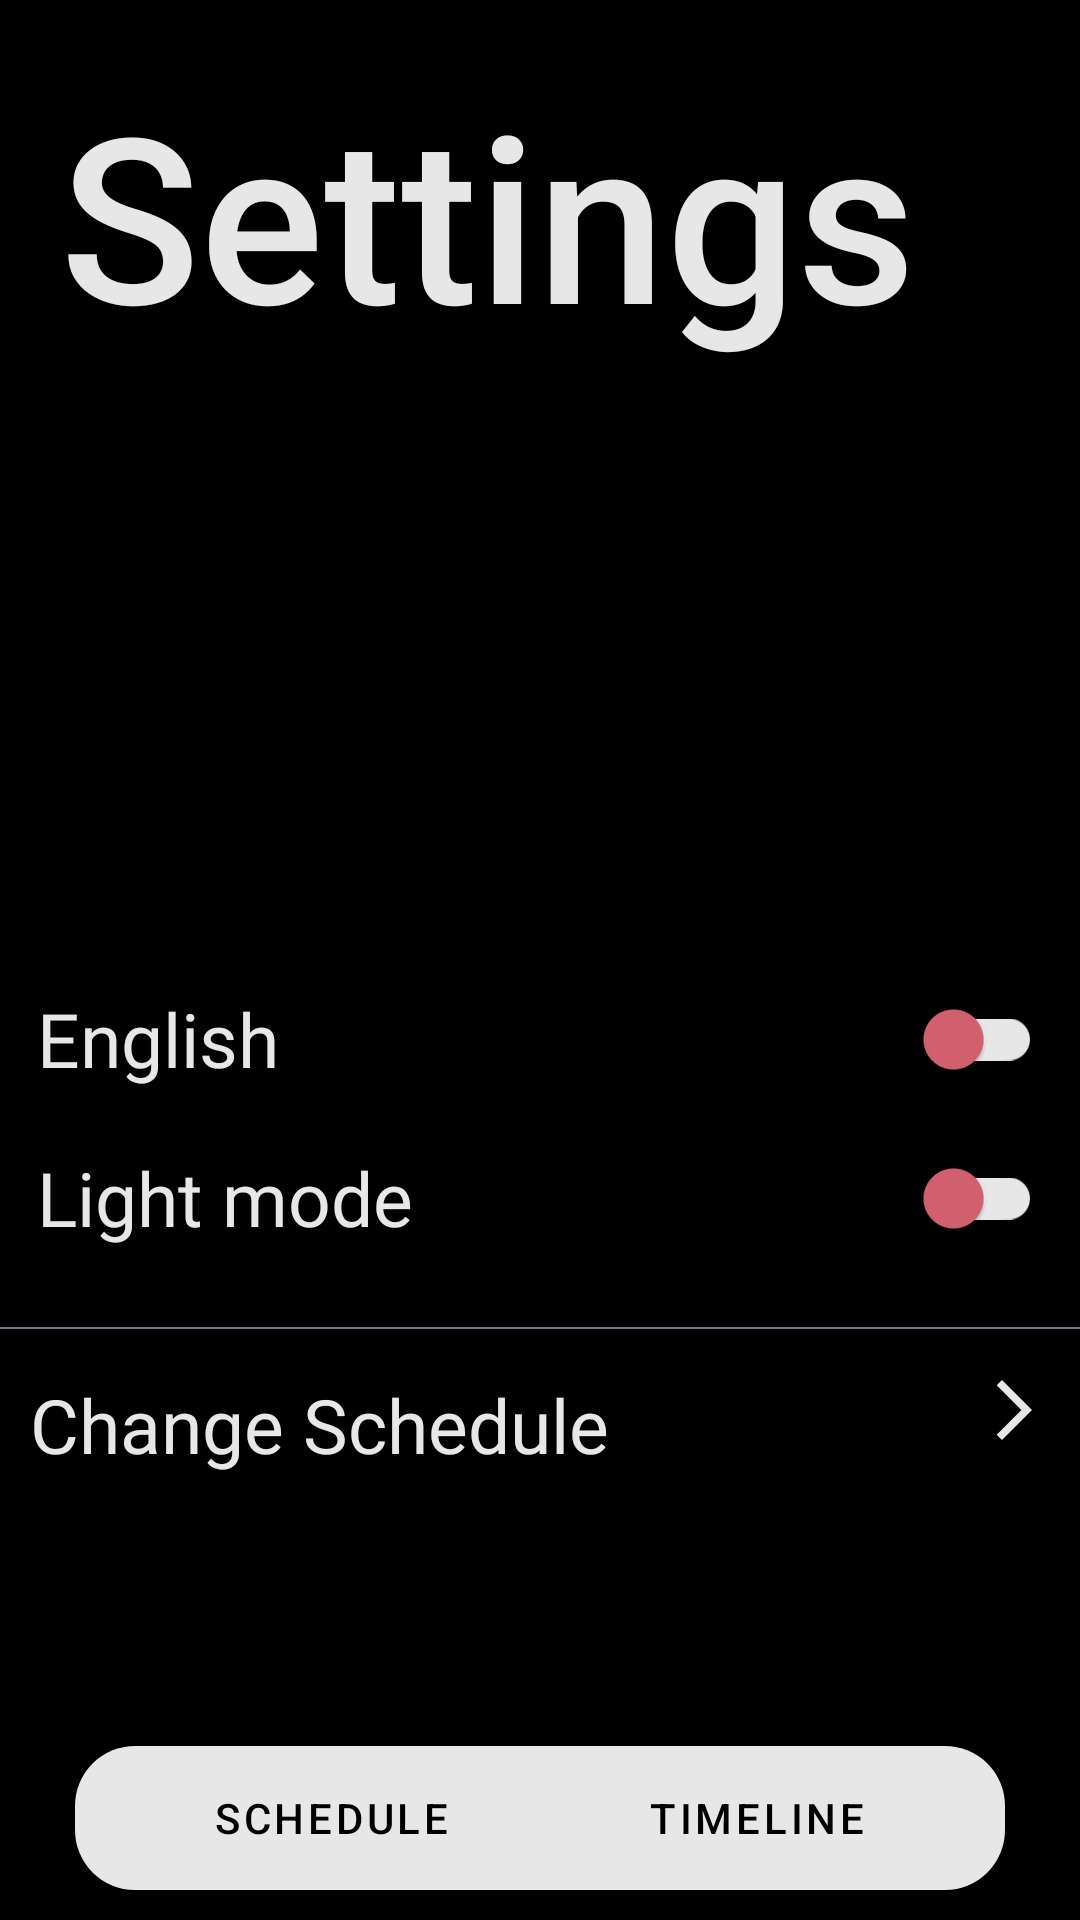

Screen size 1080px x 1920px. Icon name, then its box in pixels as bbox(x1, y1, x2, y2):
arrow forward: bbox(997, 1380, 1032, 1440)
